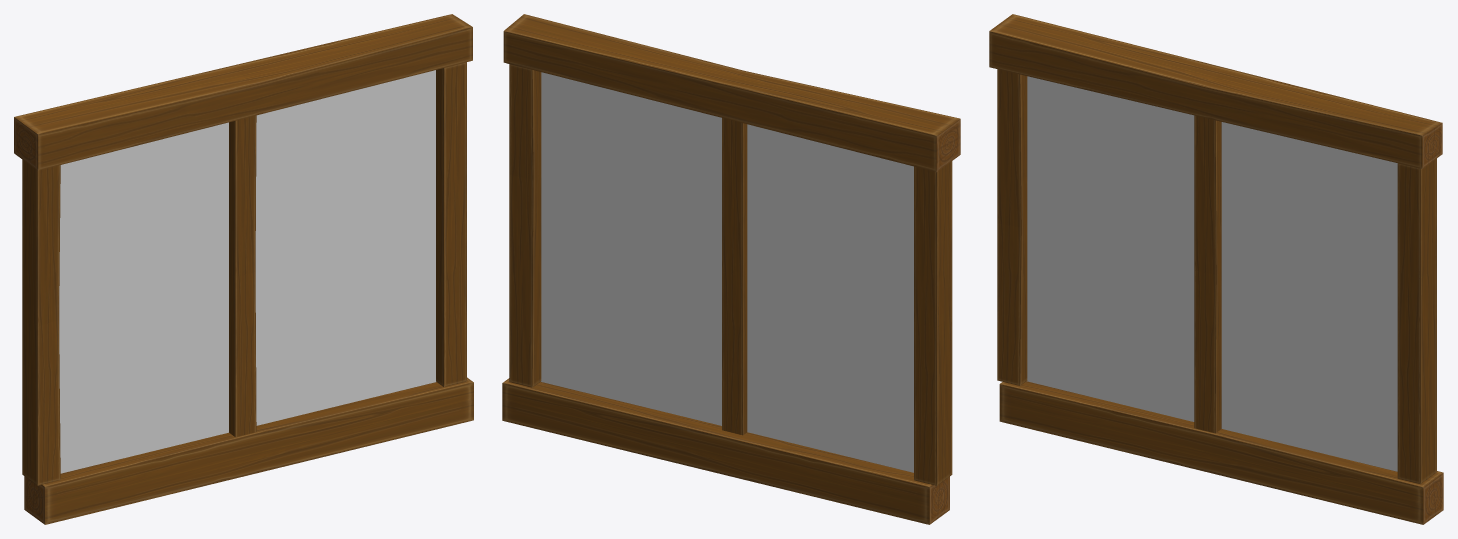
Rendered from SM_House_Window_B_Alternate.fbx.
3 views of the same model, side by side, from view 1: azimuth 30°, elevation 25°; view 2: azimuth 150°, elevation 25°; view 3: azimuth 330°, elevation 25° (orthographic).
Parts seen in each view (by area): view 1: SM_House_Window_B_Alternate; view 2: SM_House_Window_B_Alternate; view 3: SM_House_Window_B_Alternate.
Boxes of the visible parts, x1,y1,x2,y2 form: SM_House_Window_B_Alternate: [14, 14, 473, 524]; SM_House_Window_B_Alternate: [502, 14, 960, 524]; SM_House_Window_B_Alternate: [989, 14, 1443, 524].
Size of the model in its own units: 2.17 by 1.87 by 0.2044.
